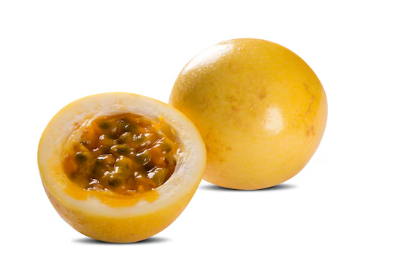maracuya: (166, 29, 331, 199)
